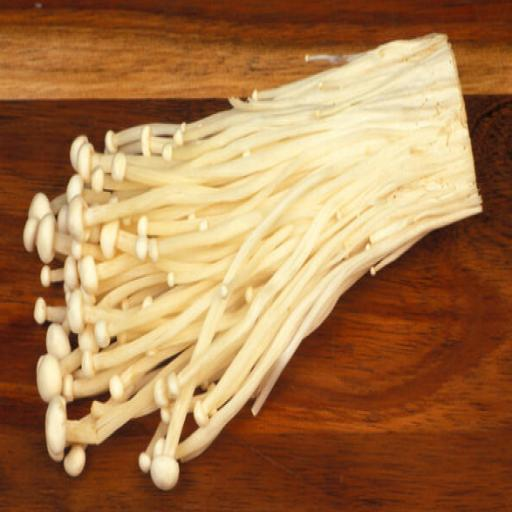Enoki Mushroom: (0, 17, 512, 512)
